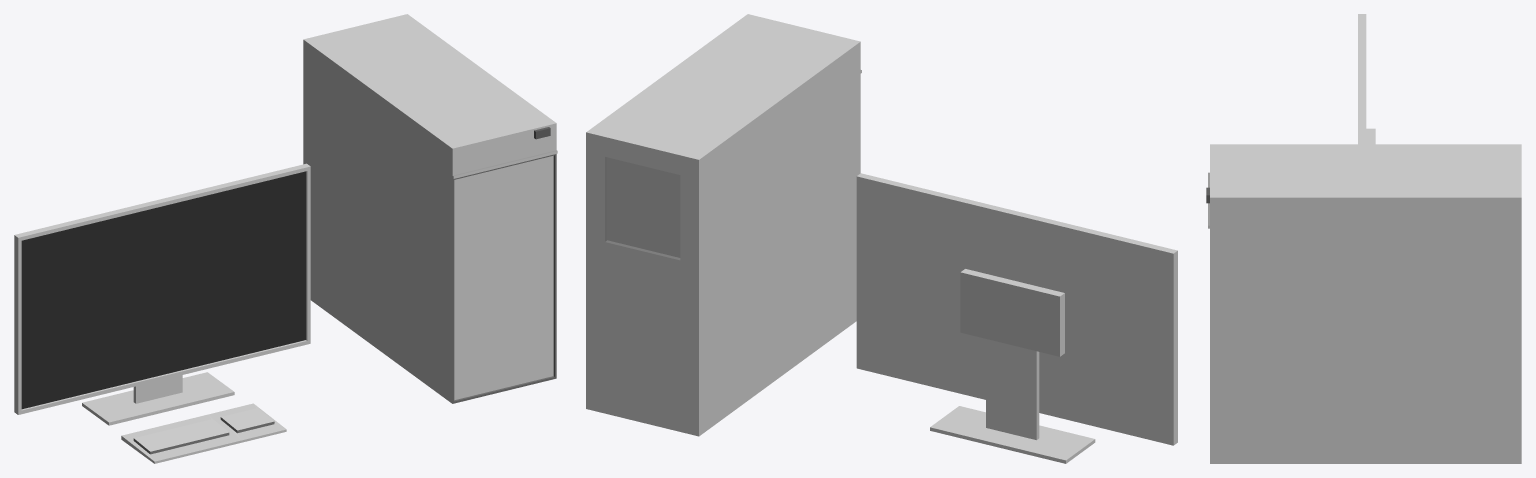
File: computer_01.fbx
The picture shows the model from 3 angles, left to right: view 1: azimuth 30°, elevation 25°; view 2: azimuth 150°, elevation 25°; view 3: azimuth 270°, elevation 25°; orthographic projection. The views are drawn at different scales.
Parts seen in each view (by area): view 1: Cube; view 2: Cube; view 3: Cube.
Part boxes in pixels (x1,y1,x2,y2): Cube: (14, 14, 557, 463); Cube: (586, 14, 1177, 463); Cube: (1206, 14, 1521, 463).
Bounding box in the file's own units: 0.9518 × 0.4965 × 0.5323.
Materials: 1 (1 with a texture image).
